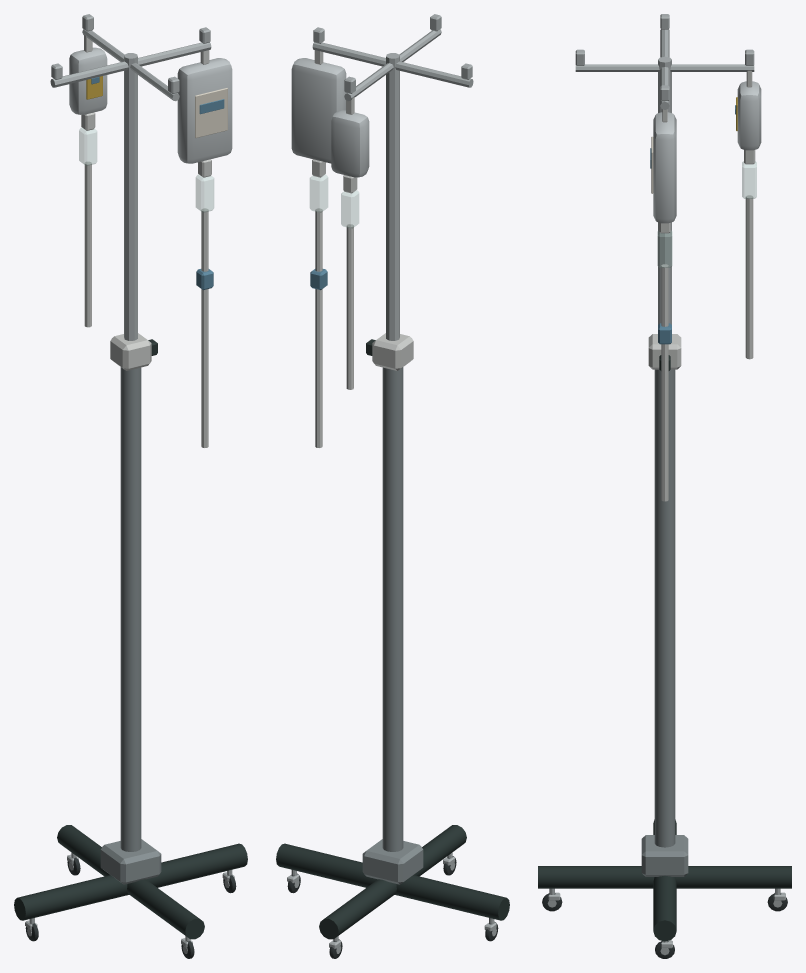
File: iv-pole.glb
The picture shows the model from 3 angles, left to right: view 1: azimuth 30°, elevation 25°; view 2: azimuth 150°, elevation 25°; view 3: azimuth 270°, elevation 25°; orthographic projection.
Visible parts, largest first — view 1: iv-pole; view 2: iv-pole; view 3: iv-pole.
Boxes of the visible parts, left/top/right/bottom form: iv-pole: left=14, top=14, right=247, bottom=958; iv-pole: left=276, top=14, right=509, bottom=958; iv-pole: left=538, top=14, right=791, bottom=958.
Size of the model in its own units: 0.54 by 2.02 by 0.54.
